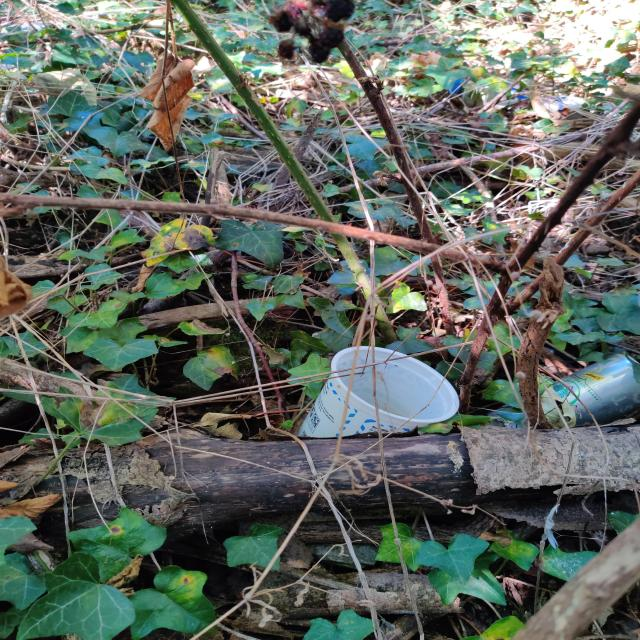litter: (289, 336, 479, 438), (539, 342, 639, 439)
